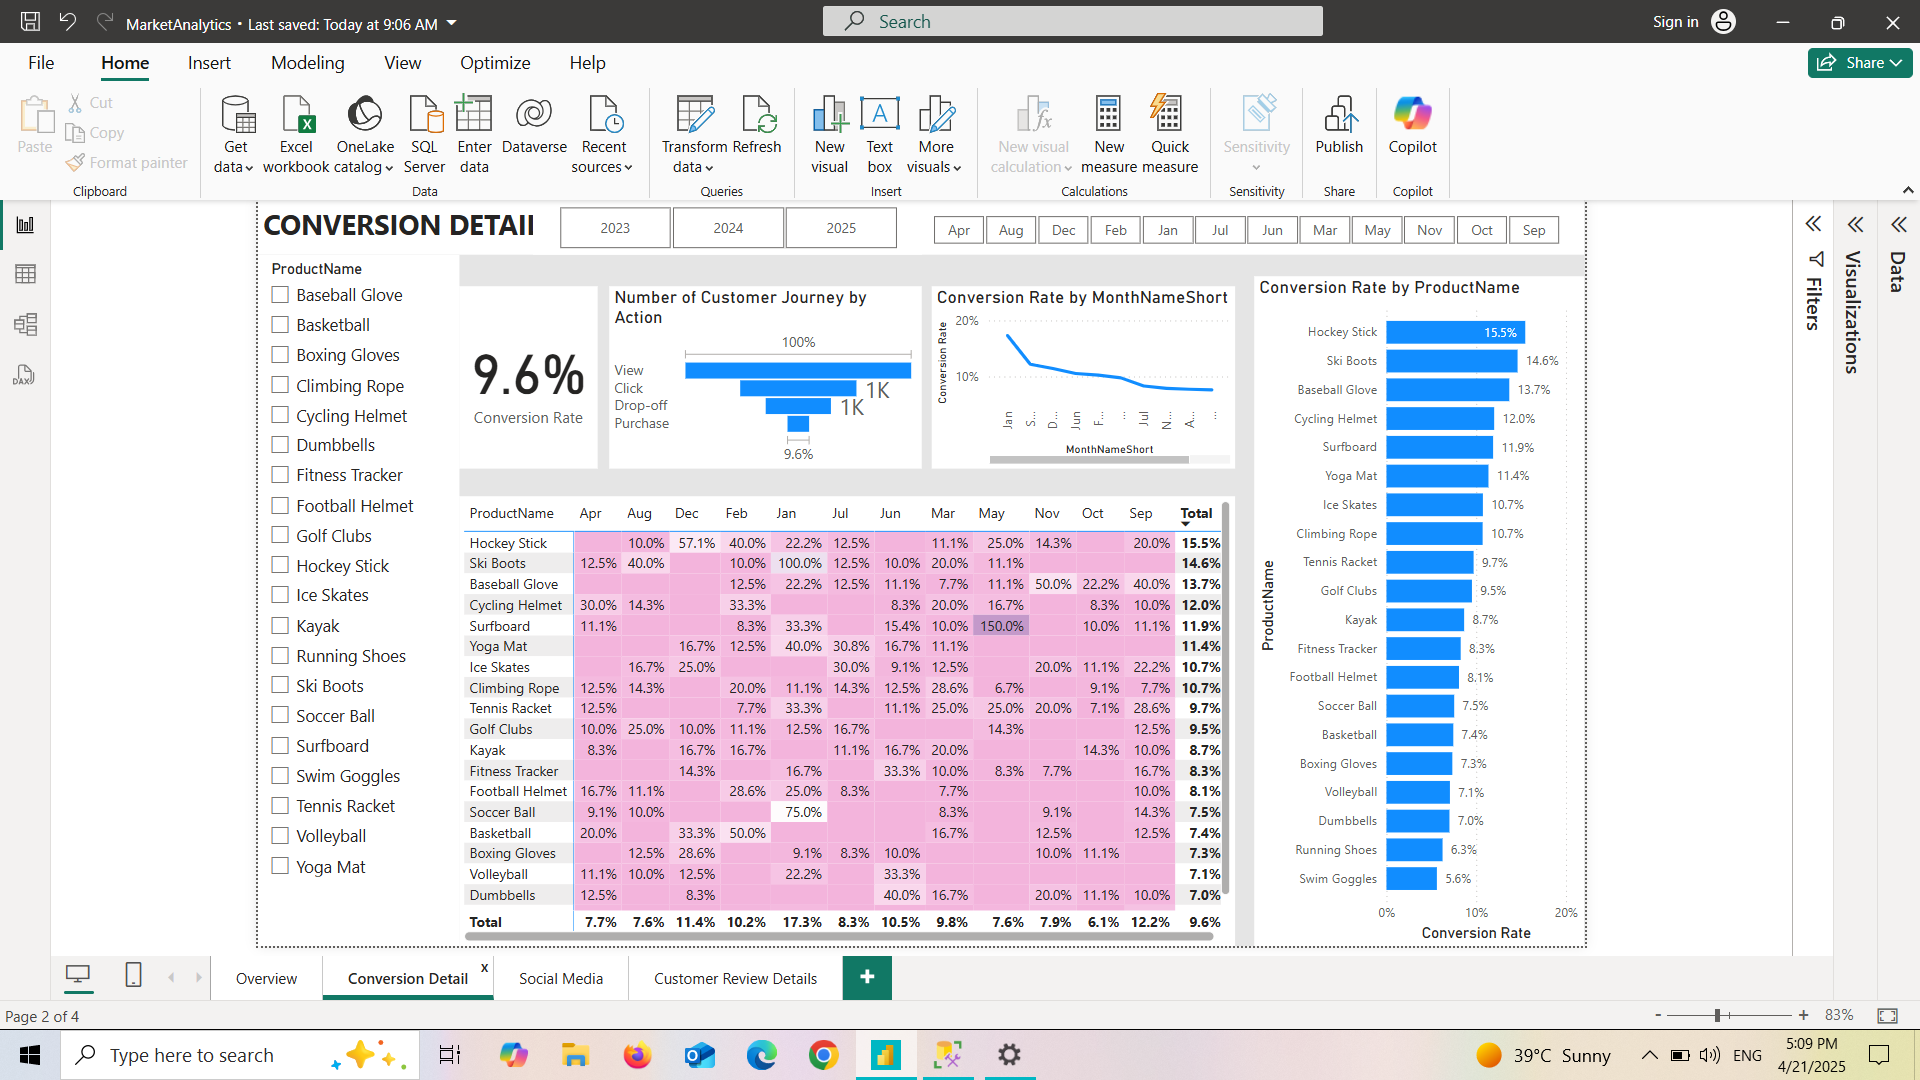

Layout of this report page (visuals, bound fields, positions):
{"tool":"powerbi","page":{"name":"Conversion Detail","canvas":[1280,720],"ordinal":1},"visuals":[{"type":"textbox","box":[0,0,1280,53.1],"z":0},{"type":"slicer","fields":{"Values":["dm_products.ProductName"]},"box":[0,53.1,194.2,667.2],"z":1000},{"type":"card","fields":{"Values":["_Calculations.Conversion Rate"]},"box":[194.2,83.2,133.9,176.1],"z":2000},{"type":"slicer","fields":{"Values":["Calendar.Year"]},"box":[265.4,0,375.2,53.1],"z":3000},{"type":"slicer","fields":{"Values":["Calendar.MonthNameShort"]},"box":[626.1,8.4,653.9,36.2],"z":4000},{"type":"clusteredBarChart","fields":{"Category":["dm_products.ProductName"],"Y":["_Calculations.Conversion Rate"]},"box":[961.5,73.6,318.5,646.7],"z":5000},{"type":"lineChart","fields":{"Y":["_Calculations.Conversion Rate"],"Category":["Calendar.MonthNameShort"]},"box":[650.3,83.2,293.2,176.1],"z":6000},{"type":"pivotTable","fields":{"Values":["_Calculations.Conversion Rate"],"Rows":["dm_products.ProductName"],"Columns":["Calendar.MonthNameShort"]},"box":[194.2,285.9,749.2,434.3],"z":7000},{"type":"funnel","fields":{"Y":["_Calculations.Number of Customer Journey"],"Category":["fact_customer_journey.Action"]},"box":[339,83.2,301.6,176.1],"z":8000}]}

Visuals, with their boxes on the page's 1280x720 design canvas (x1, y1, x2, y2). These are canvas units, not pixel positions in the 1920x1080 screenshot, which may show the page scaled, cropped or inside an application window:
textbox: select_region(0, 0, 1280, 53)
slicer - dm_products.ProductName: select_region(0, 53, 194, 720)
card - _Calculations.Conversion Rate: select_region(194, 83, 328, 259)
slicer - Calendar.Year: select_region(265, 0, 641, 53)
slicer - Calendar.MonthNameShort: select_region(626, 8, 1280, 45)
clusteredBarChart - dm_products.ProductName x _Calculations.Conversion Rate: select_region(962, 74, 1280, 720)
lineChart - _Calculations.Conversion Rate x Calendar.MonthNameShort: select_region(650, 83, 944, 259)
pivotTable - _Calculations.Conversion Rate x dm_products.ProductName: select_region(194, 286, 943, 720)
funnel - _Calculations.Number of Customer Journey x fact_customer_journey.Action: select_region(339, 83, 641, 259)
